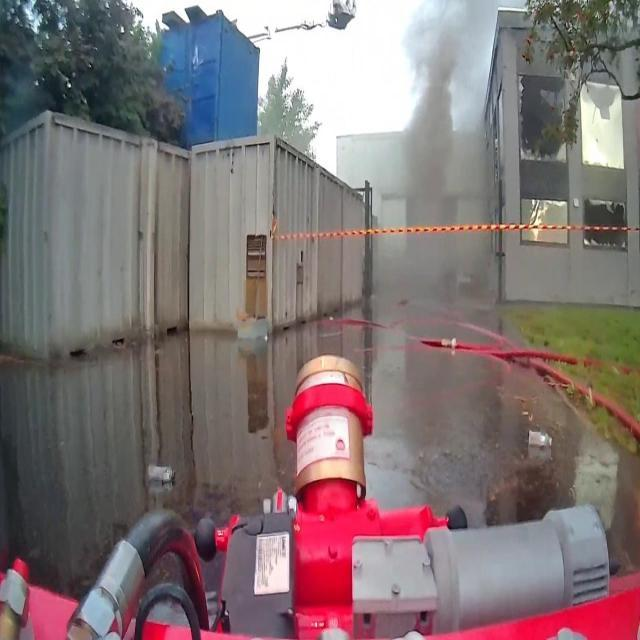Fire: (579, 82, 624, 166), (528, 197, 568, 240)
Smoke: (396, 0, 500, 309)
